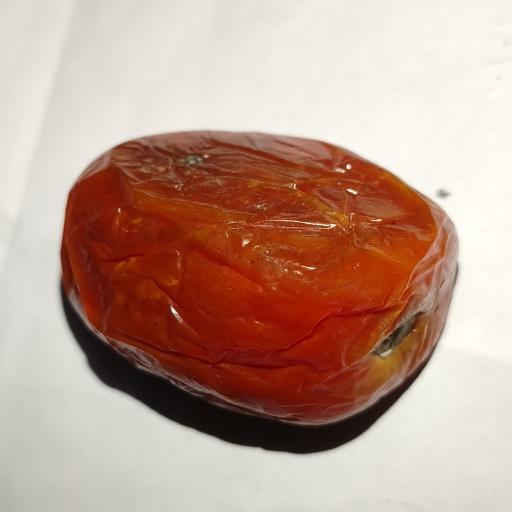spoiled: (62, 131, 456, 424)
